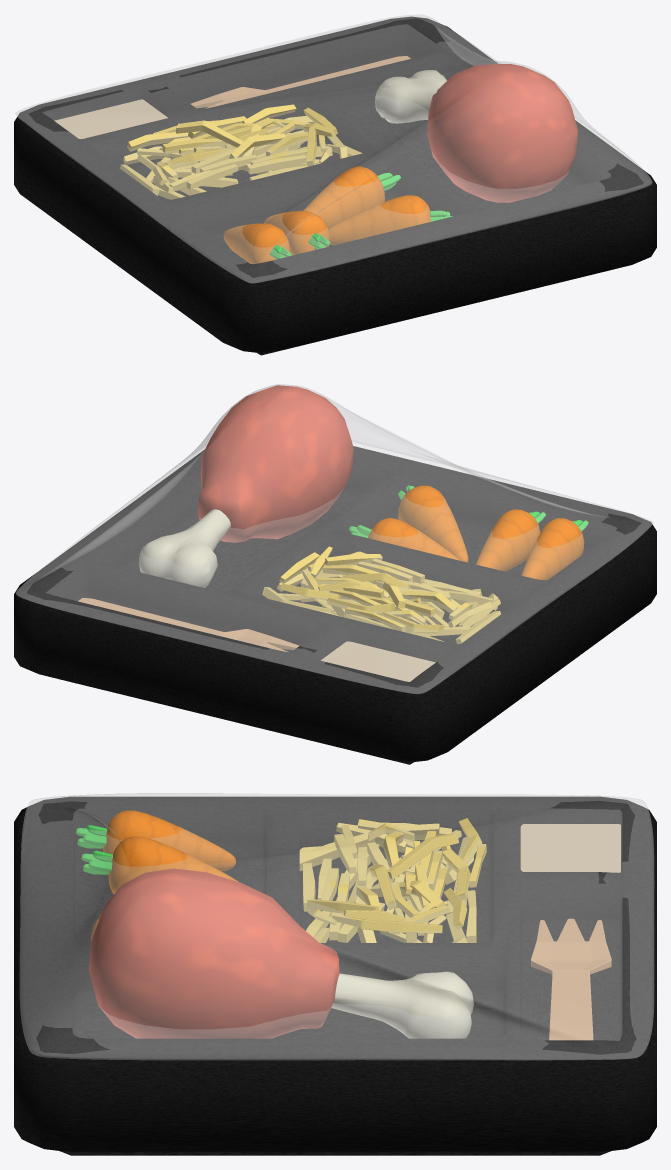
The model's file is pranzo.gltf.
The picture shows the model from 3 angles, top to bottom: view 1: azimuth 30°, elevation 25°; view 2: azimuth 150°, elevation 25°; view 3: azimuth 270°, elevation 25°; orthographic projection. The views are drawn at different scales.
Visible parts, largest first — view 1: pellicola.002; view 2: pellicola.002; view 3: pellicola.002.
Part boxes in pixels (bbox=[...]): pellicola.002: bbox=[14, 14, 656, 355]; pellicola.002: bbox=[14, 384, 656, 764]; pellicola.002: bbox=[14, 793, 656, 1155].
Size of the model in its own units: 9.83 by 4.27 by 9.83.
Materials: 9 (4 with a texture image).
